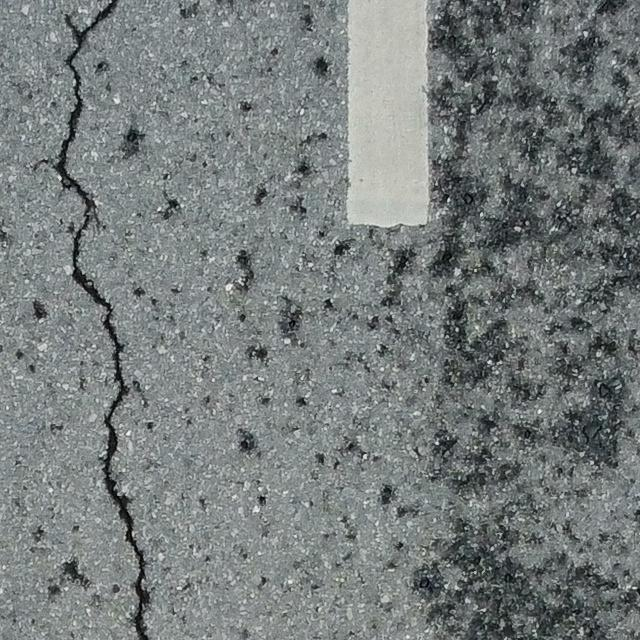LongitudinalCrack: (56, 1, 154, 640)
